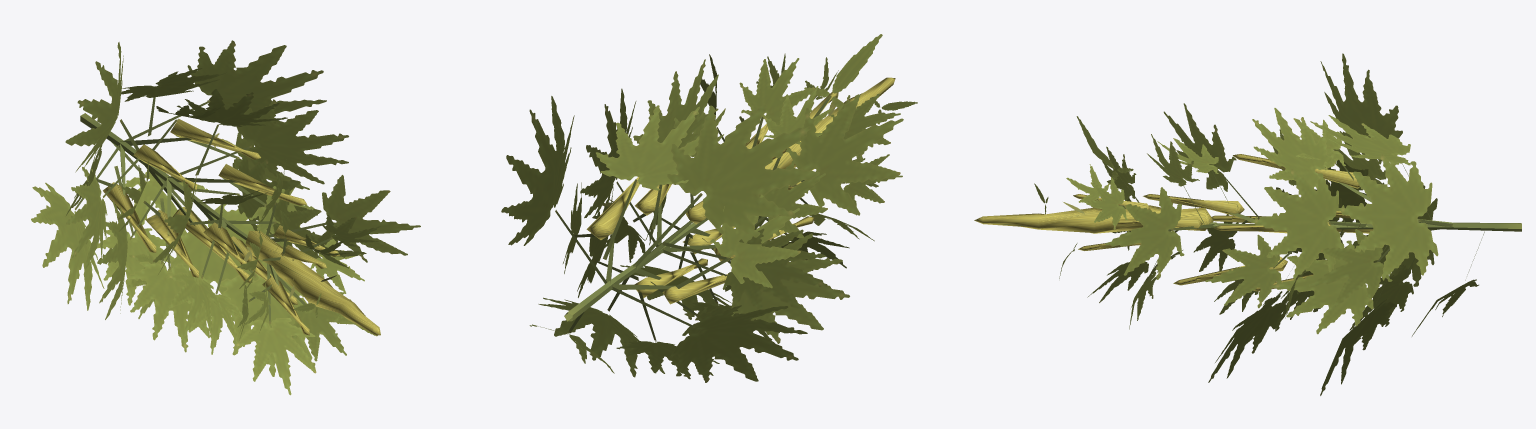
Rendered from p_gold_haze_flowering_c1_cards.obj.
3 views of the same model, side by side, from view 1: azimuth 30°, elevation 25°; view 2: azimuth 150°, elevation 25°; view 3: azimuth 270°, elevation 25° (orthographic). The views are drawn at different scales.
Bounding box in the file's own units: 1.38 × 1.38 × 2.03.
Materials: 1 (1 with a texture image).
